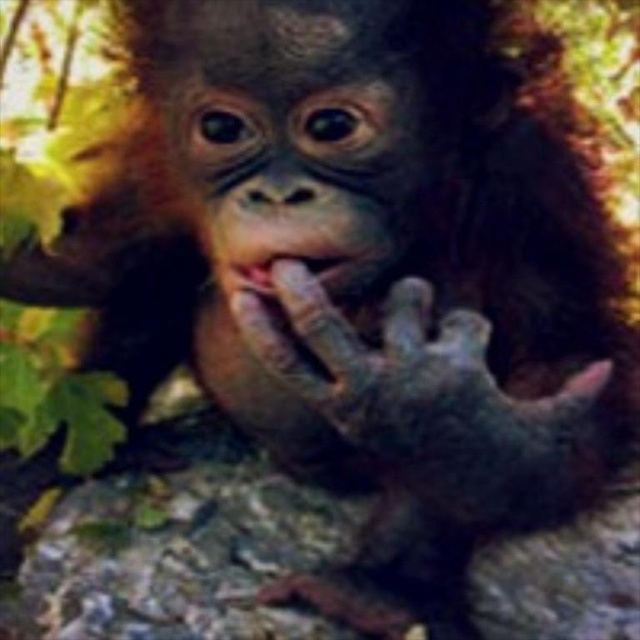Monkey: (0, 0, 639, 525)
